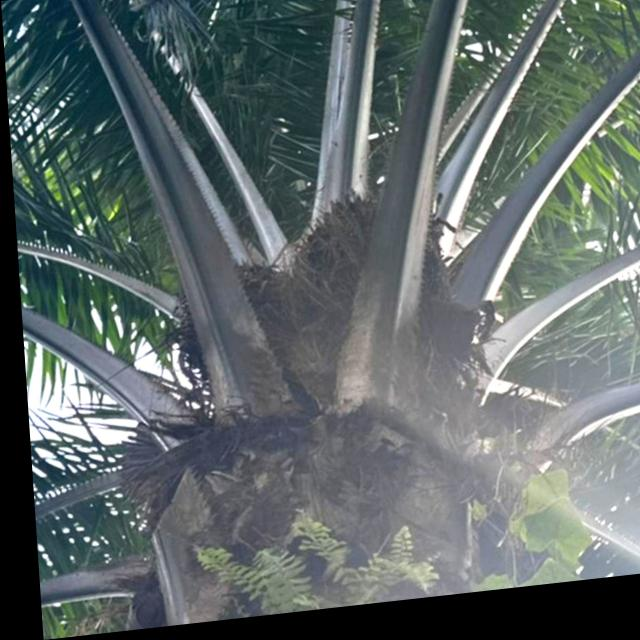unripe: (275, 189, 453, 394)
